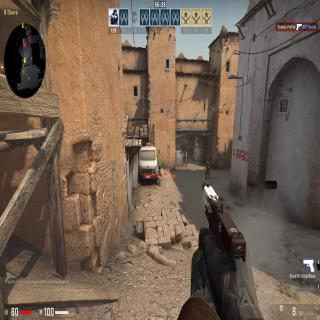CT-Body: (205, 161, 210, 178), (183, 150, 187, 164)
CT-Head: (207, 161, 209, 164), (184, 150, 186, 153)
